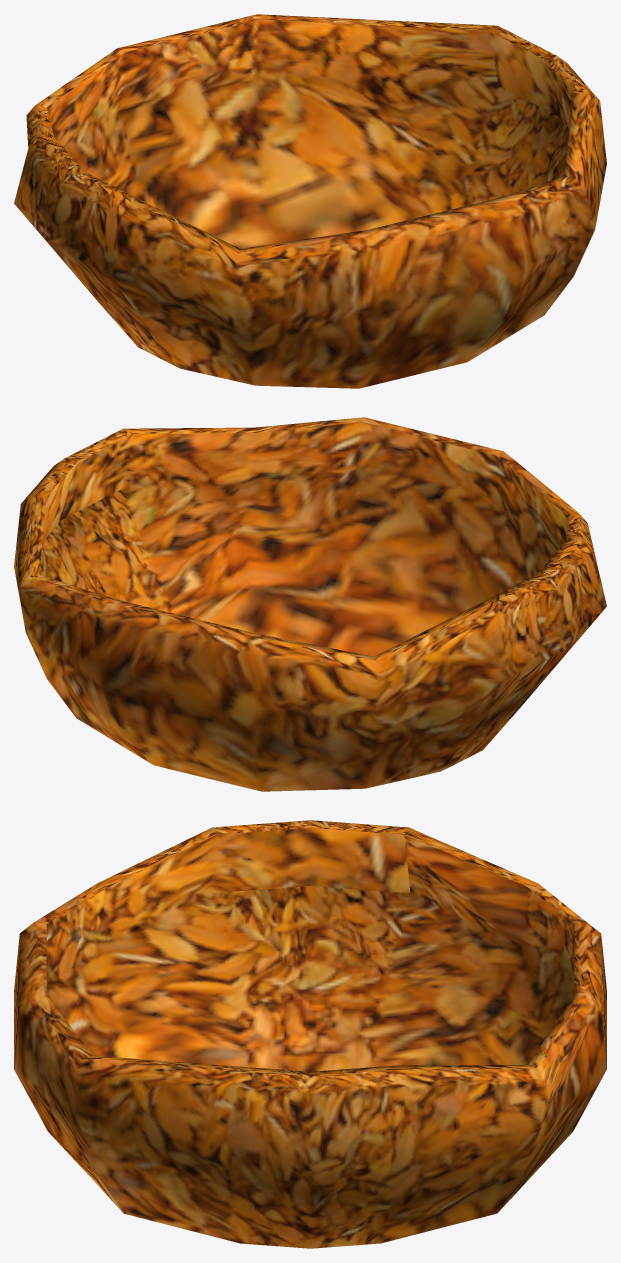
Rendered from nest.fbx.
3 views of the same model, one above another, from view 1: azimuth 30°, elevation 25°; view 2: azimuth 150°, elevation 25°; view 3: azimuth 270°, elevation 25° (orthographic). The views are drawn at different scales.
Parts seen in each view (by area): view 1: pCube149; view 2: pCube149; view 3: pCube149.
Boxes of the visible parts, x1,y1,x2,y2 form: pCube149: [14, 14, 606, 388]; pCube149: [14, 417, 606, 791]; pCube149: [14, 820, 606, 1248].
Bounding box in the file's own units: 8.73 × 3.58 × 7.87.
